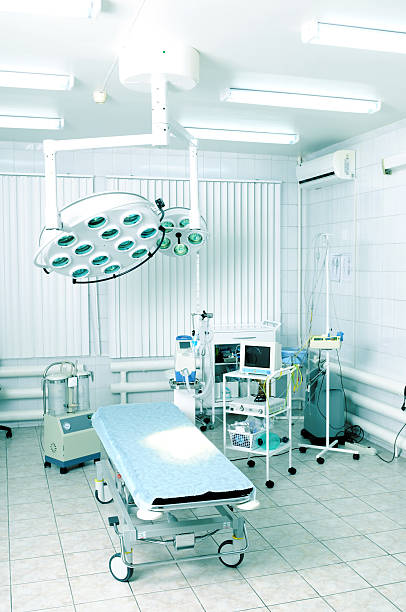bedside_monitor: (239, 342, 282, 374)
iv_pole: (309, 232, 345, 447)
operating_bed: (90, 402, 255, 583)
surgical_light: (35, 190, 163, 284), (163, 207, 211, 259)
syringe_pump: (310, 331, 346, 351)
utility_cart: (222, 367, 297, 490)
